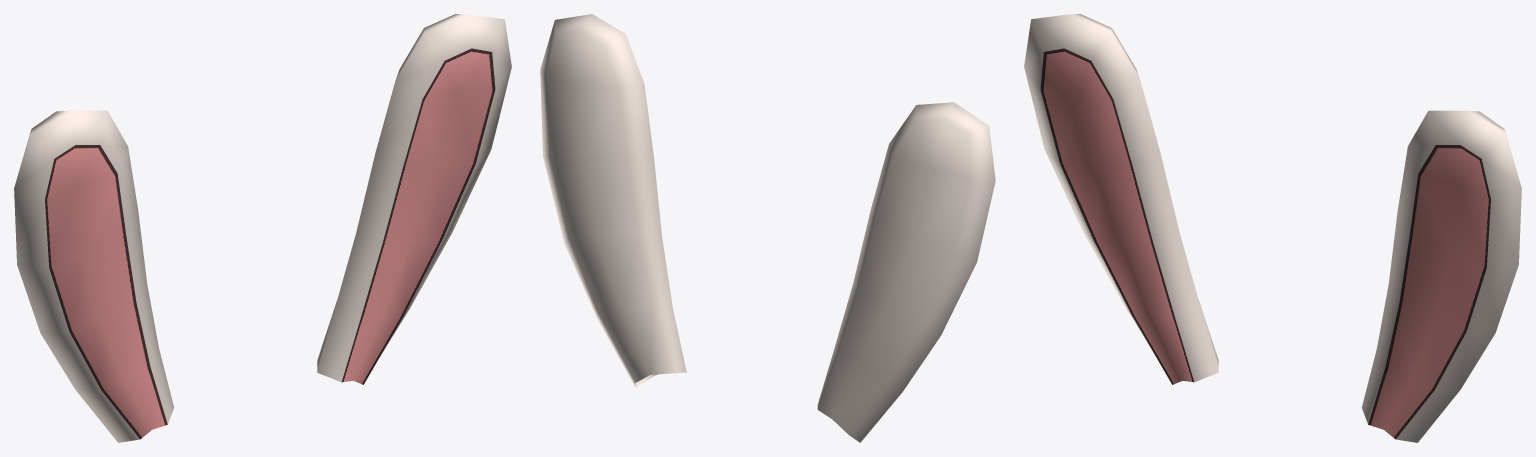
File: _headwear_015.fbx
3 renders of one model, left to right at view 1: azimuth 30°, elevation 25°; view 2: azimuth 150°, elevation 25°; view 3: azimuth 330°, elevation 25°, orthographic. The views are drawn at different scales.
Parts seen in each view (by area): view 1: f_headwear_015; view 2: f_headwear_015; view 3: f_headwear_015.
Part boxes in pixels (x1=…): f_headwear_015: x1=14, y1=14, x2=511, y2=442; f_headwear_015: x1=540, y1=14, x2=995, y2=442; f_headwear_015: x1=1024, y1=14, x2=1521, y2=442.
Size of the model in its own units: 21.17 by 15.06 by 2.95.
